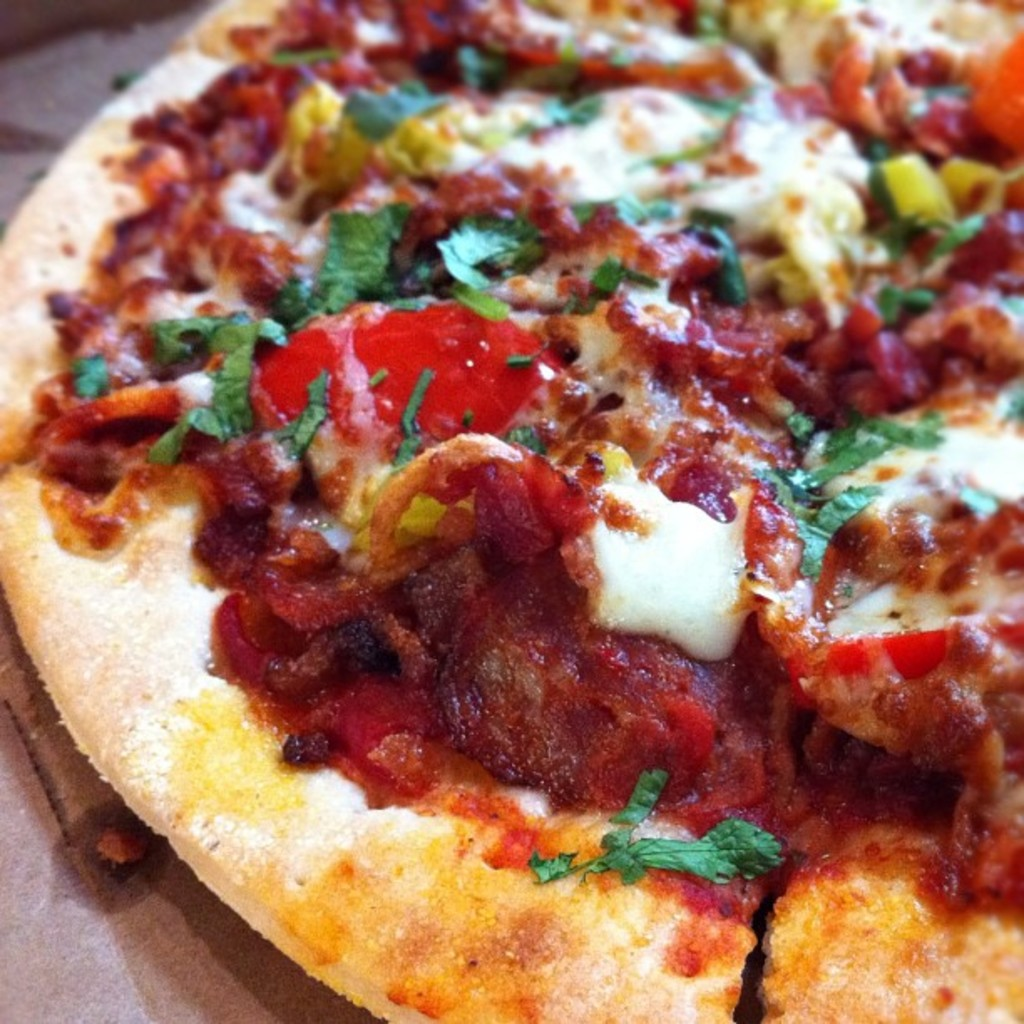Pizza: (15, 163, 848, 1022), (762, 230, 1022, 1013), (65, 0, 1022, 165)
